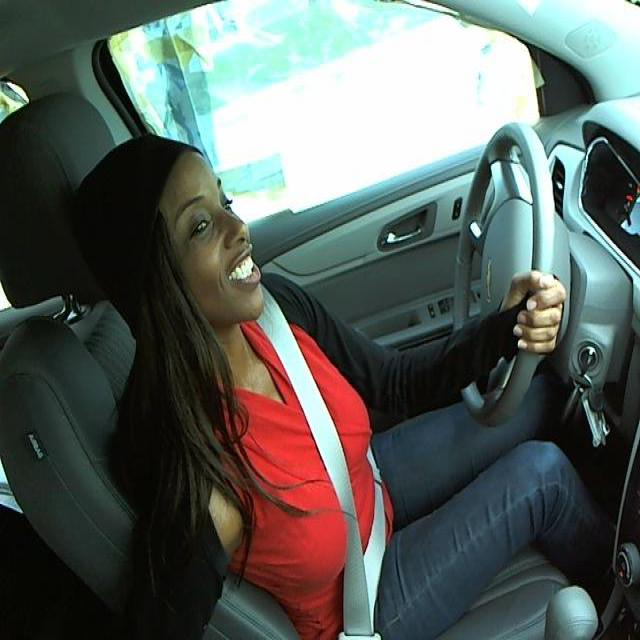seatbelt: (269, 345, 406, 628)
